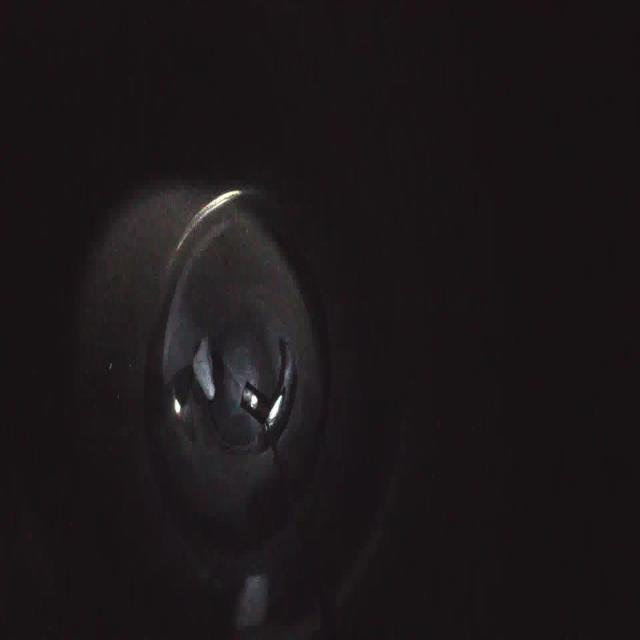impurity: (188, 326, 224, 403)
